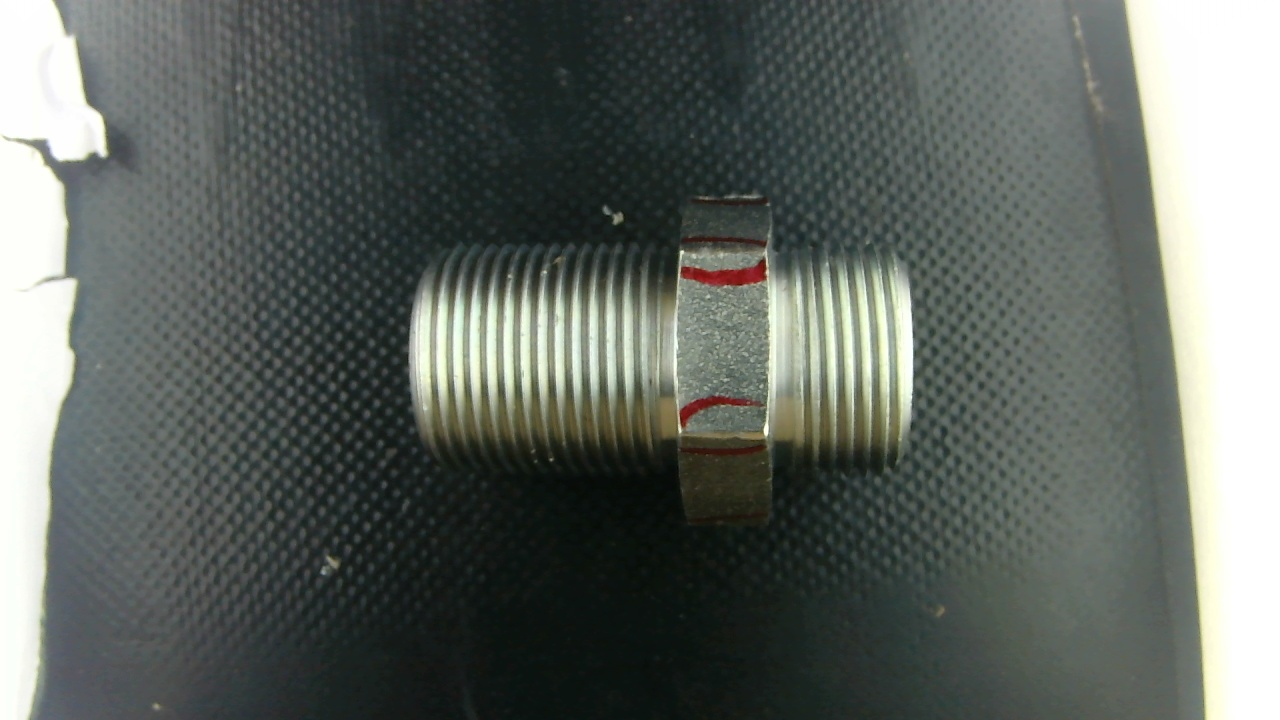Hex_damage: (678, 242, 765, 261)
